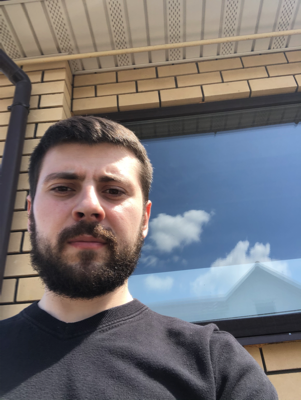without_mask: (32, 164, 138, 299)
